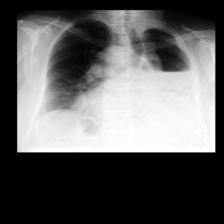tuberculosis: (37, 13, 200, 149)
